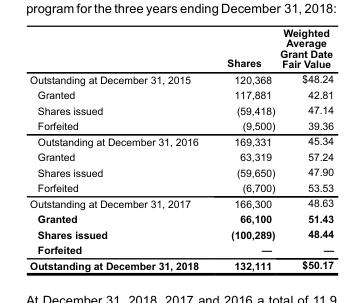table: (29, 29, 333, 272)
table column: (29, 29, 212, 272), (212, 29, 276, 272), (276, 29, 333, 272)
table column header: (29, 29, 333, 73)
table row: (29, 29, 333, 73), (29, 88, 333, 104), (29, 119, 333, 135), (29, 150, 333, 166), (29, 181, 333, 197), (29, 212, 333, 228), (29, 243, 333, 259), (29, 73, 333, 88), (29, 104, 333, 119), (29, 135, 333, 150), (29, 166, 333, 181), (29, 197, 333, 212), (29, 228, 333, 243), (29, 259, 333, 272)
